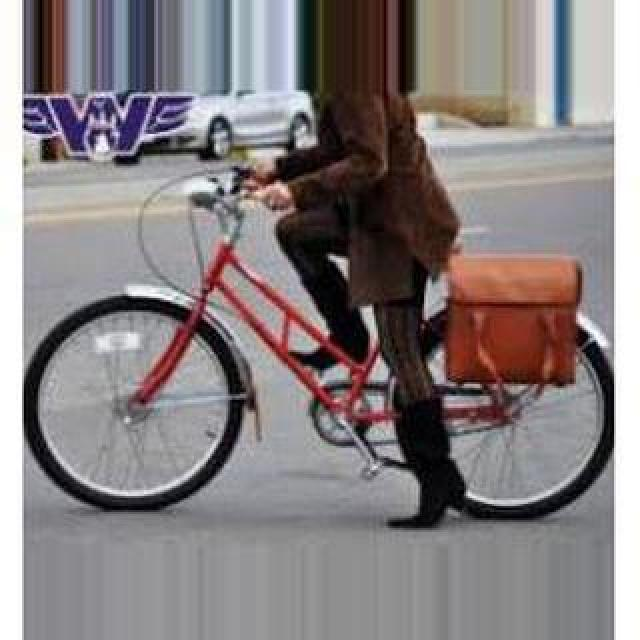Bus-Bike: (110, 86, 316, 162)
MC-Bike: (278, 102, 478, 530)
Person: (24, 174, 618, 526)
